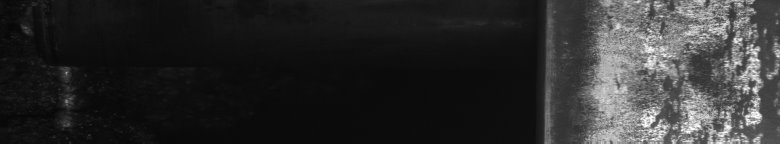kb: (564, 4, 776, 136)
